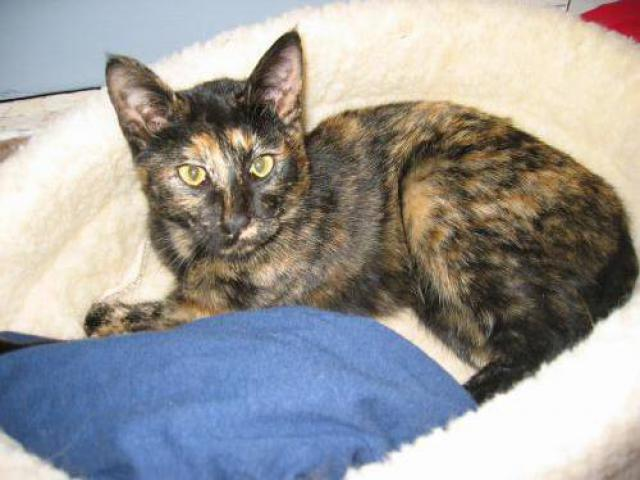cat: (66, 35, 625, 403)
